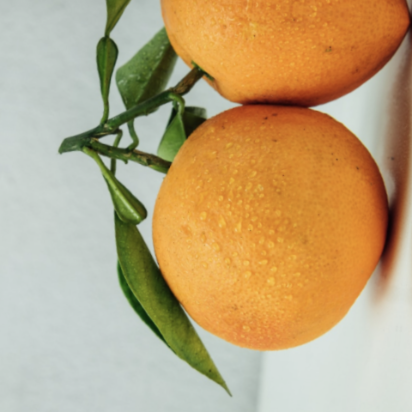orange: (111, 63, 412, 389)
